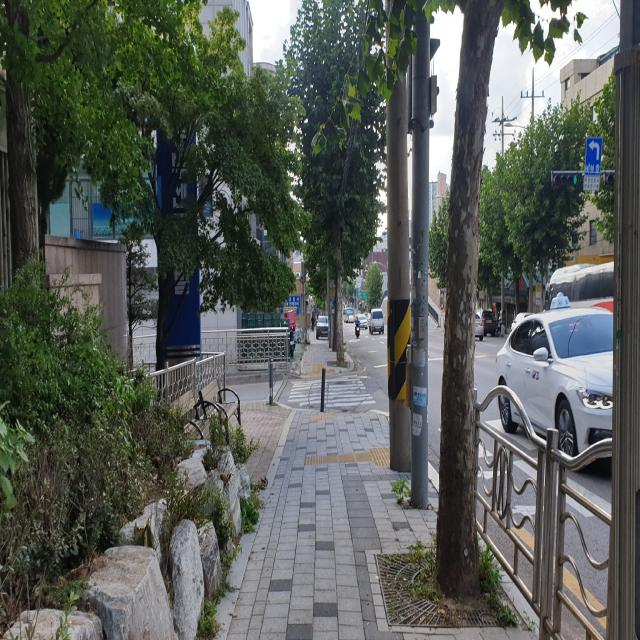횡단보도: (287, 374, 376, 408)
